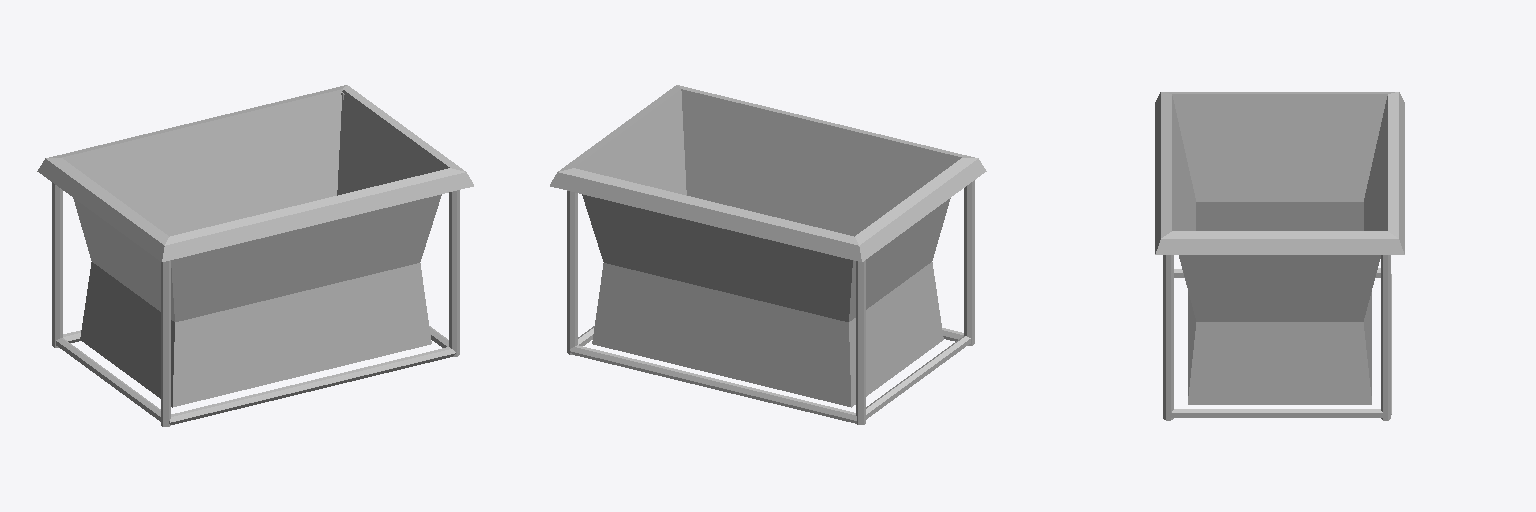
The model's file is laundryBasket1.obj.
3 views of the same model, side by side, from view 1: azimuth 30°, elevation 25°; view 2: azimuth 150°, elevation 25°; view 3: azimuth 270°, elevation 25° (orthographic).
Visible parts, largest first — view 1: Cylinder; view 2: Cylinder; view 3: Cylinder.
Boxes of the visible parts, x1=… form: Cylinder: x1=37, y1=85, x2=473, y2=426; Cylinder: x1=550, y1=85, x2=986, y2=424; Cylinder: x1=1155, y1=92, x2=1404, y2=420.
Size of the model in its own units: 6.71 by 3.82 by 4.63.